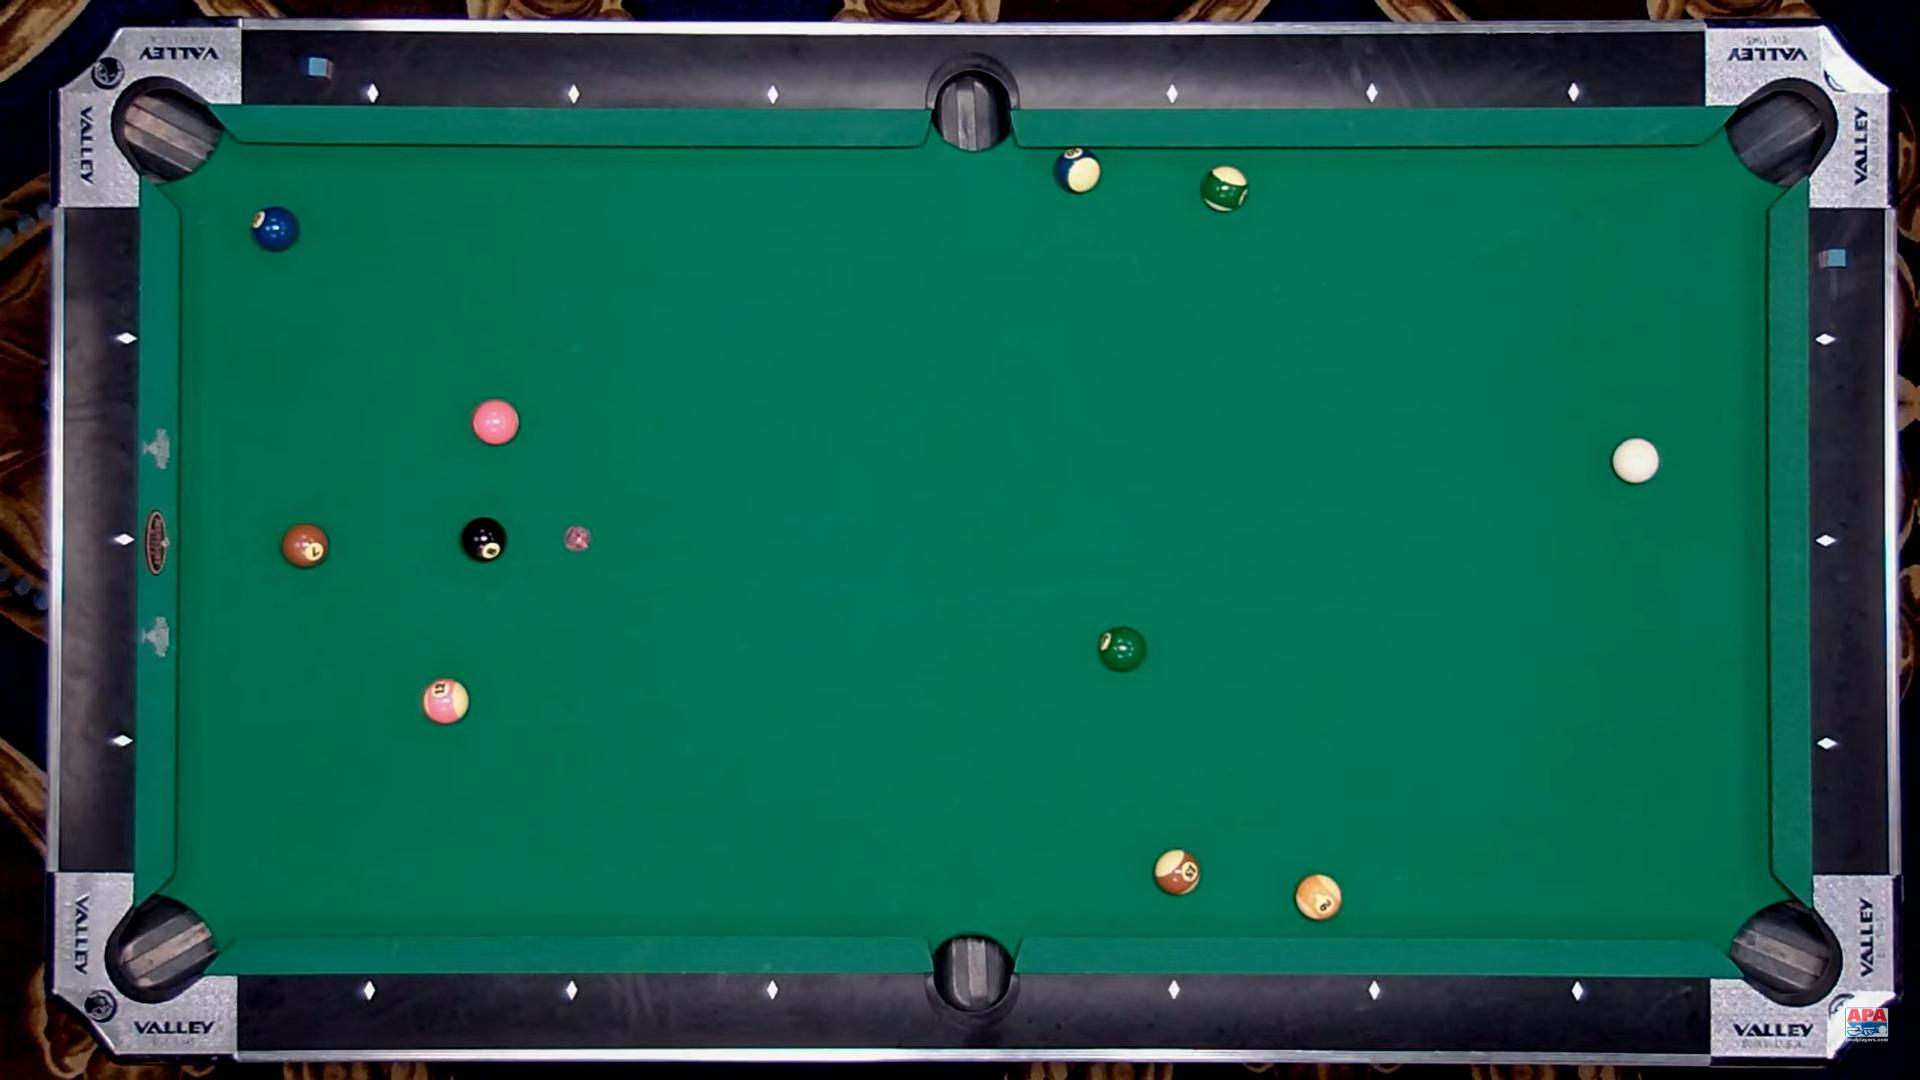Black: (462, 517, 506, 563)
Cue: (1611, 436, 1660, 483)
Dot: (117, 531, 132, 546), (119, 330, 133, 344), (567, 87, 582, 102), (1364, 84, 1378, 99), (1820, 736, 1834, 750), (1571, 985, 1585, 1000), (115, 735, 129, 748), (767, 88, 781, 103), (1164, 87, 1179, 100), (1568, 84, 1581, 99), (1818, 535, 1833, 549), (1367, 984, 1381, 998), (1167, 982, 1182, 996), (564, 984, 579, 997), (361, 984, 376, 997), (365, 87, 378, 100), (1817, 332, 1830, 345), (765, 984, 778, 997)
Solid: (1098, 626, 1146, 673), (252, 207, 301, 252), (473, 400, 520, 446), (282, 524, 330, 568)
Striped: (1200, 166, 1250, 212), (1054, 148, 1102, 194), (1295, 874, 1342, 920), (1154, 849, 1200, 895), (423, 679, 471, 724)
